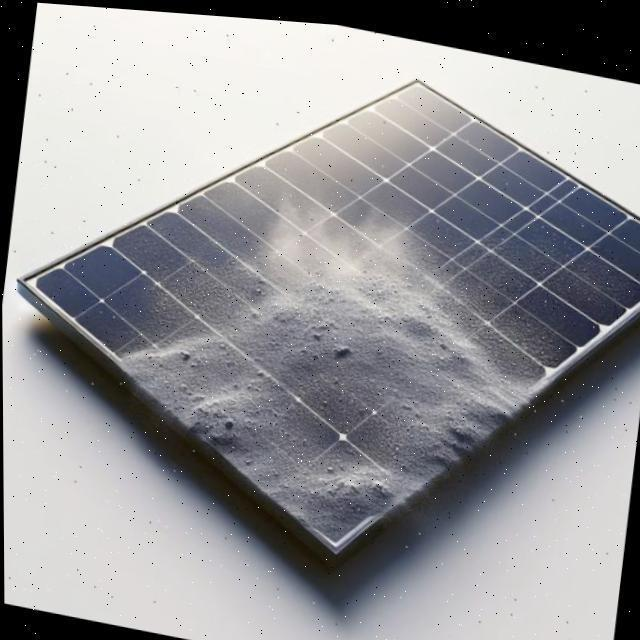Anomaly Solar Panel: (23, 32, 640, 602)
Surface Contaminant: (60, 18, 640, 581)
